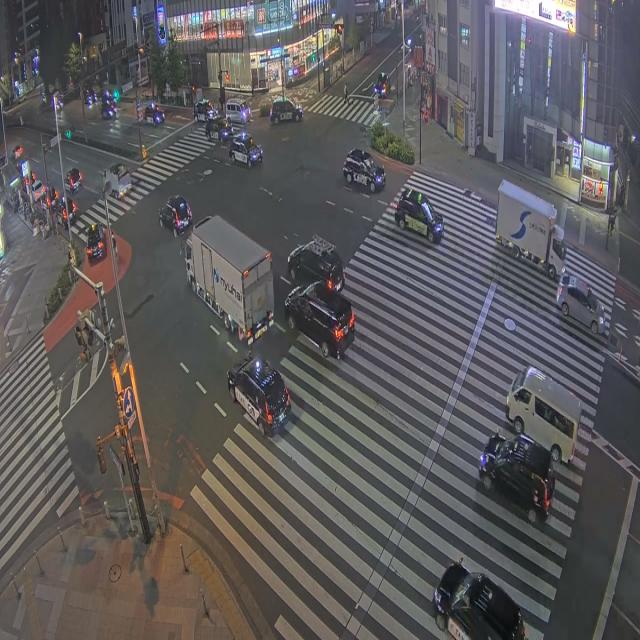car: (433, 560, 525, 639), (479, 433, 554, 523), (285, 282, 354, 359), (228, 355, 291, 436), (288, 236, 344, 291), (557, 271, 605, 335), (395, 189, 443, 243), (343, 150, 385, 192), (159, 196, 192, 236), (229, 132, 262, 167), (270, 98, 303, 123), (86, 224, 106, 261), (205, 117, 233, 142), (57, 196, 77, 225), (193, 99, 217, 122), (64, 167, 82, 194), (144, 104, 164, 126), (374, 73, 390, 98), (32, 180, 46, 202), (101, 100, 116, 119), (47, 184, 59, 207), (83, 88, 97, 105), (52, 94, 63, 112), (12, 145, 23, 159)
truck: (185, 216, 274, 345), (496, 180, 565, 280), (103, 164, 132, 198)
van: (506, 367, 581, 463), (225, 99, 250, 125)
